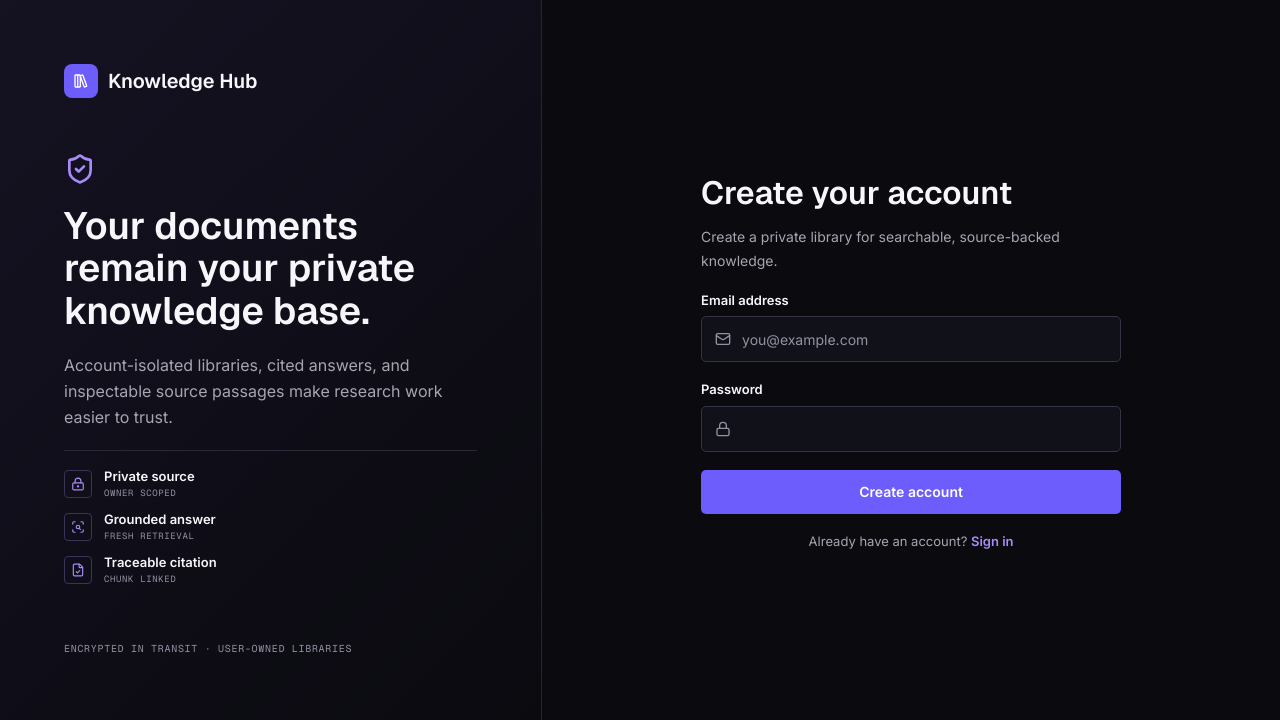
Test: login › creates an account and returns to sign in with confirmation
Type "ada@example.com" into the field labelled "Email address" at [911, 339], box [701,316,1121,362]
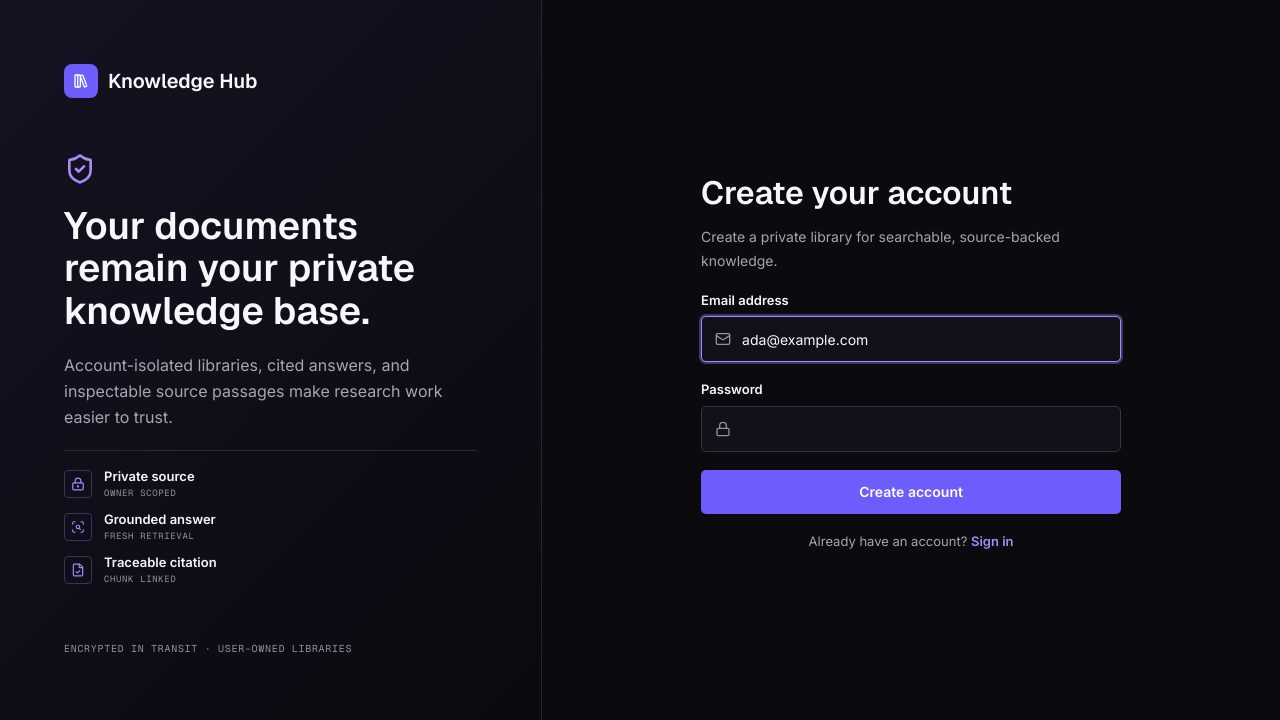
Type "correct-horse-battery" into the password field labelled "Password" at [911, 429], box [701,406,1121,452]
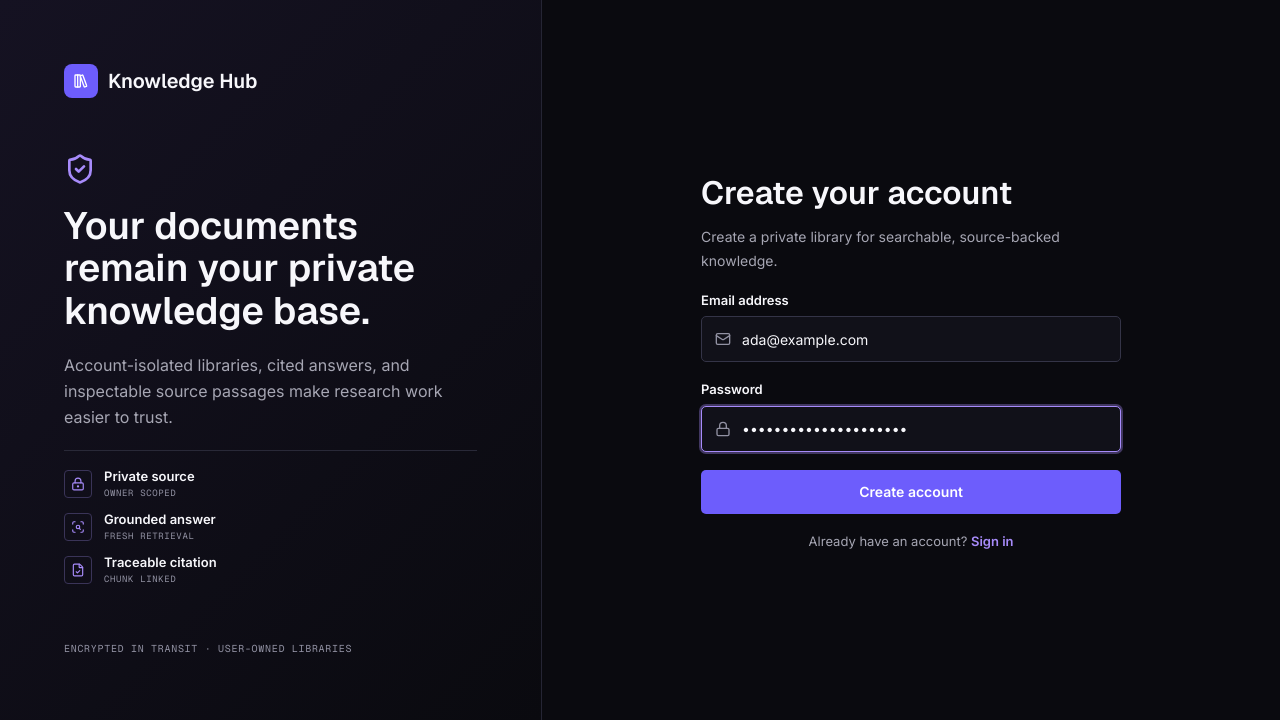
Click the button "Create account" at [911, 492], box [701,470,1121,514]
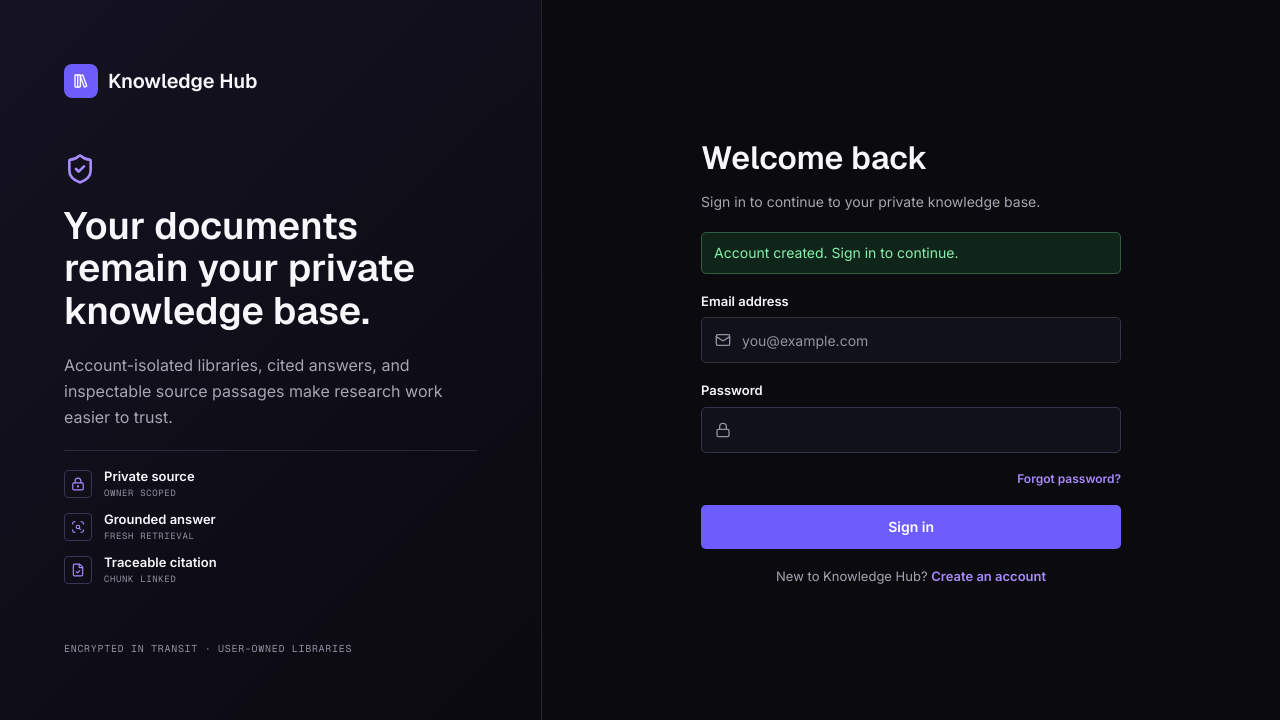
Result: the text "Account created. Sign in to continue." is shown at [701,232,1121,274]
